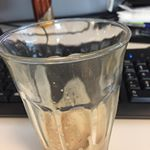cups: (1, 14, 136, 150)
